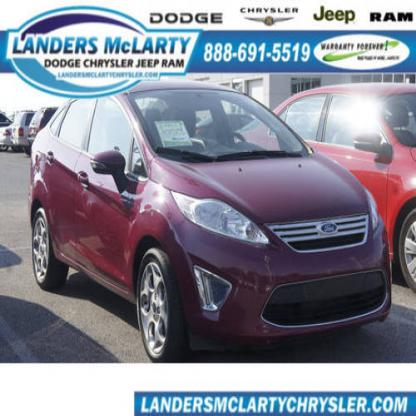Vehicle: (26, 72, 395, 363)
